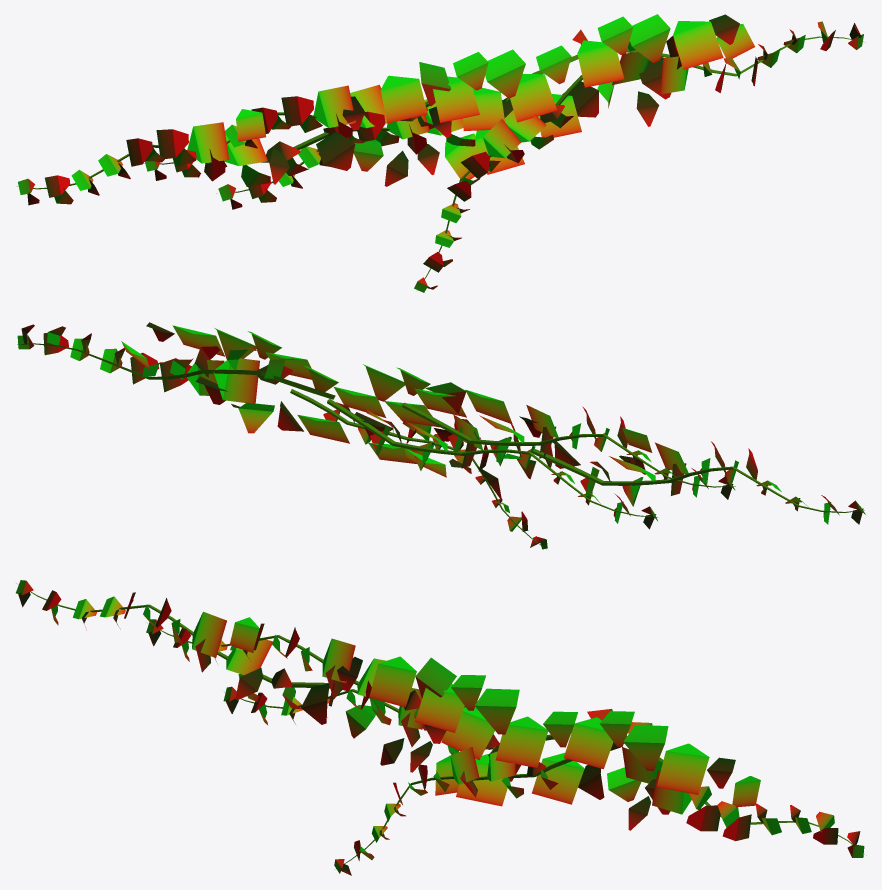
File: Lierre6_LOD1.fbx
3 renders of one model, top to bottom at view 1: azimuth 30°, elevation 25°; view 2: azimuth 150°, elevation 25°; view 3: azimuth 330°, elevation 25°, orthographic. The views are drawn at different scales.
Parts seen in each view (by area): view 1: _6a58_Var8_LOD2; view 2: _6a58_Var8_LOD2; view 3: _6a58_Var8_LOD2.
Part boxes in pixels (x1,y1,x2,y2): _6a58_Var8_LOD2: (17,14,863,292); _6a58_Var8_LOD2: (17,322,865,549); _6a58_Var8_LOD2: (16,580,866,875).
Size of the model in its own units: 118 by 24.97 by 14.73.
